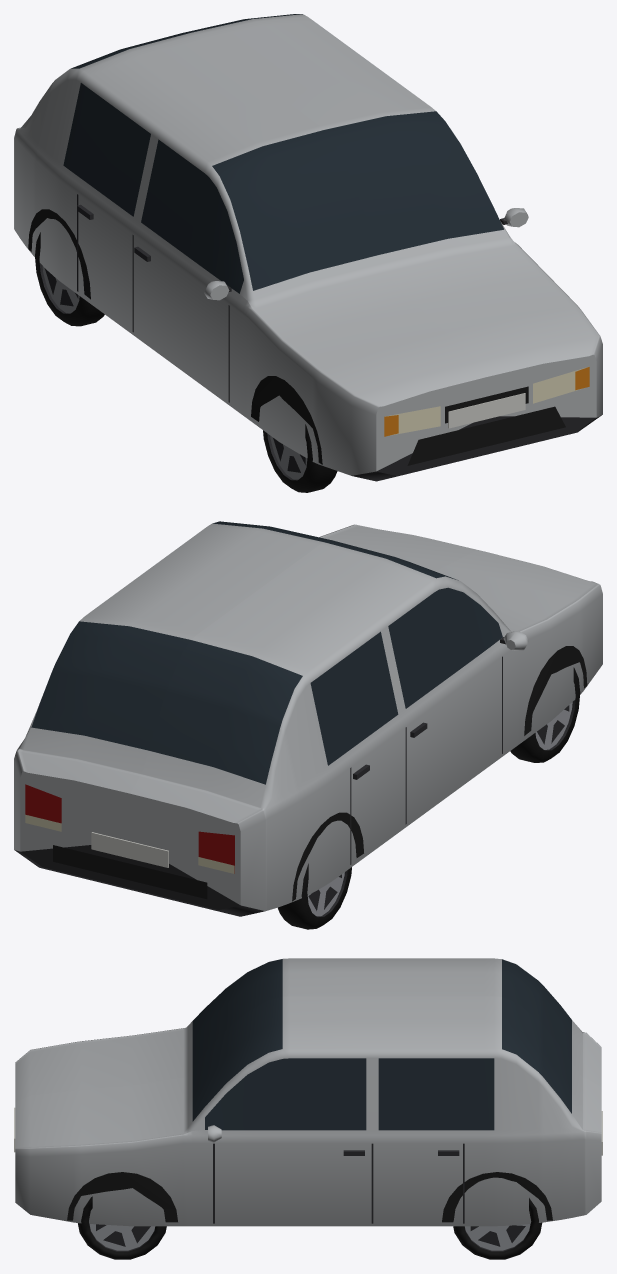
File: hatchback.glb
3 views of the same model, one above another, from view 1: azimuth 30°, elevation 25°; view 2: azimuth 150°, elevation 25°; view 3: azimuth 270°, elevation 25° (orthographic). The views are drawn at different scales.
Visible parts, largest first — view 1: hatchback; view 2: hatchback; view 3: hatchback.
Boxes of the visible parts, <box> form: hatchback: <box>14,14,602,492</box>; hatchback: <box>14,521,602,929</box>; hatchback: <box>14,958,602,1259</box>.
Bounding box in the file's own units: 2.02 × 1.54 × 3.87.
